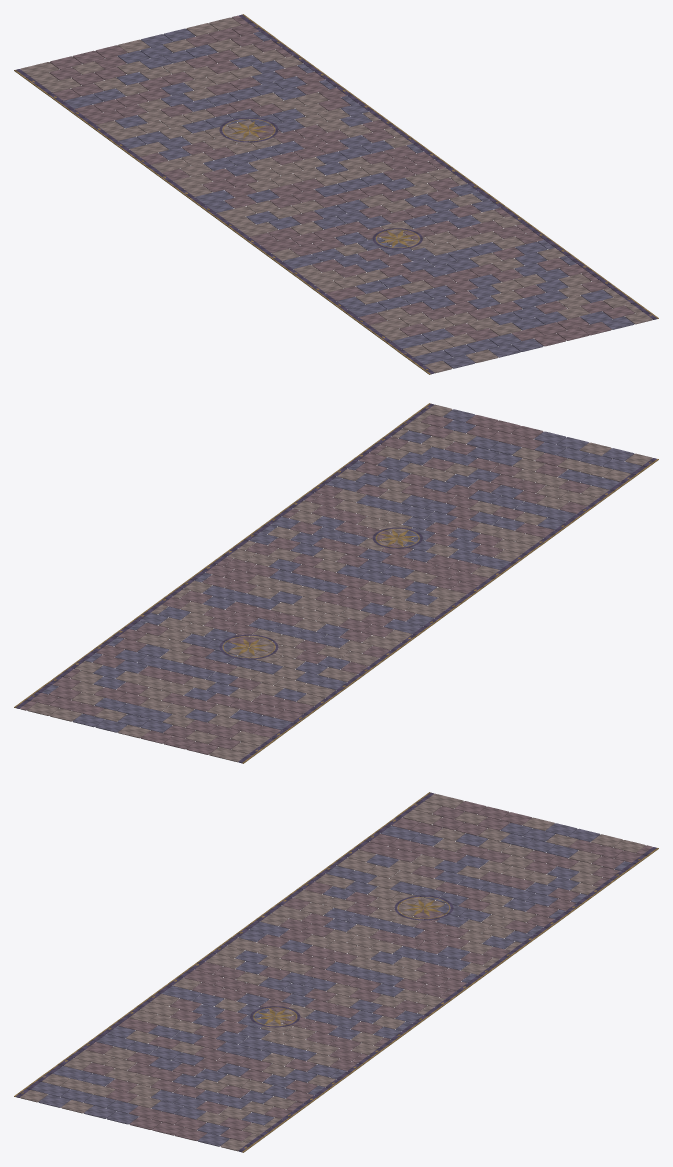
File: plaza-promenade.glb
The picture shows the model from 3 angles, top to bottom: view 1: azimuth 30°, elevation 25°; view 2: azimuth 150°, elevation 25°; view 3: azimuth 330°, elevation 25°; orthographic projection.
Visible parts, largest first — view 1: plaza-promenade · Paving · warm rose, plaza-promenade · Paving · shell limestone, plaza-promenade · Paving · lavender granite, plaza-promenade · Paving · purple border, plaza-promenade · Paving · ochre inlay; view 2: plaza-promenade · Paving · warm rose, plaza-promenade · Paving · shell limestone, plaza-promenade · Paving · lavender granite, plaza-promenade · Paving · purple border, plaza-promenade · Paving · ochre inlay; view 3: plaza-promenade · Paving · warm rose, plaza-promenade · Paving · shell limestone, plaza-promenade · Paving · lavender granite, plaza-promenade · Paving · purple border, plaza-promenade · Paving · ochre inlay.
Boxes of the visible parts, bbox=[...] form: plaza-promenade · Paving · warm rose: bbox=[49, 15, 634, 346]; plaza-promenade · Paving · shell limestone: bbox=[20, 17, 652, 373]; plaza-promenade · Paving · lavender granite: bbox=[64, 28, 634, 368]; plaza-promenade · Paving · purple border: bbox=[16, 14, 657, 374]; plaza-promenade · Paving · ochre inlay: bbox=[14, 14, 658, 374]; plaza-promenade · Paving · warm rose: bbox=[20, 414, 590, 754]; plaza-promenade · Paving · shell limestone: bbox=[27, 404, 652, 762]; plaza-promenade · Paving · lavender granite: bbox=[42, 409, 641, 732]; plaza-promenade · Paving · purple border: bbox=[15, 403, 656, 763]; plaza-promenade · Paving · ochre inlay: bbox=[14, 403, 658, 763]; plaza-promenade · Paving · warm rose: bbox=[82, 801, 652, 1141]; plaza-promenade · Paving · shell limestone: bbox=[20, 793, 645, 1151]; plaza-promenade · Paving · lavender granite: bbox=[31, 823, 630, 1146]; plaza-promenade · Paving · purple border: bbox=[15, 792, 656, 1152]; plaza-promenade · Paving · ochre inlay: bbox=[14, 792, 658, 1152].
Bounding box in the file's own units: 12.12 × 0.0391 × 38.
Materials: 5 (5 with a texture image).
